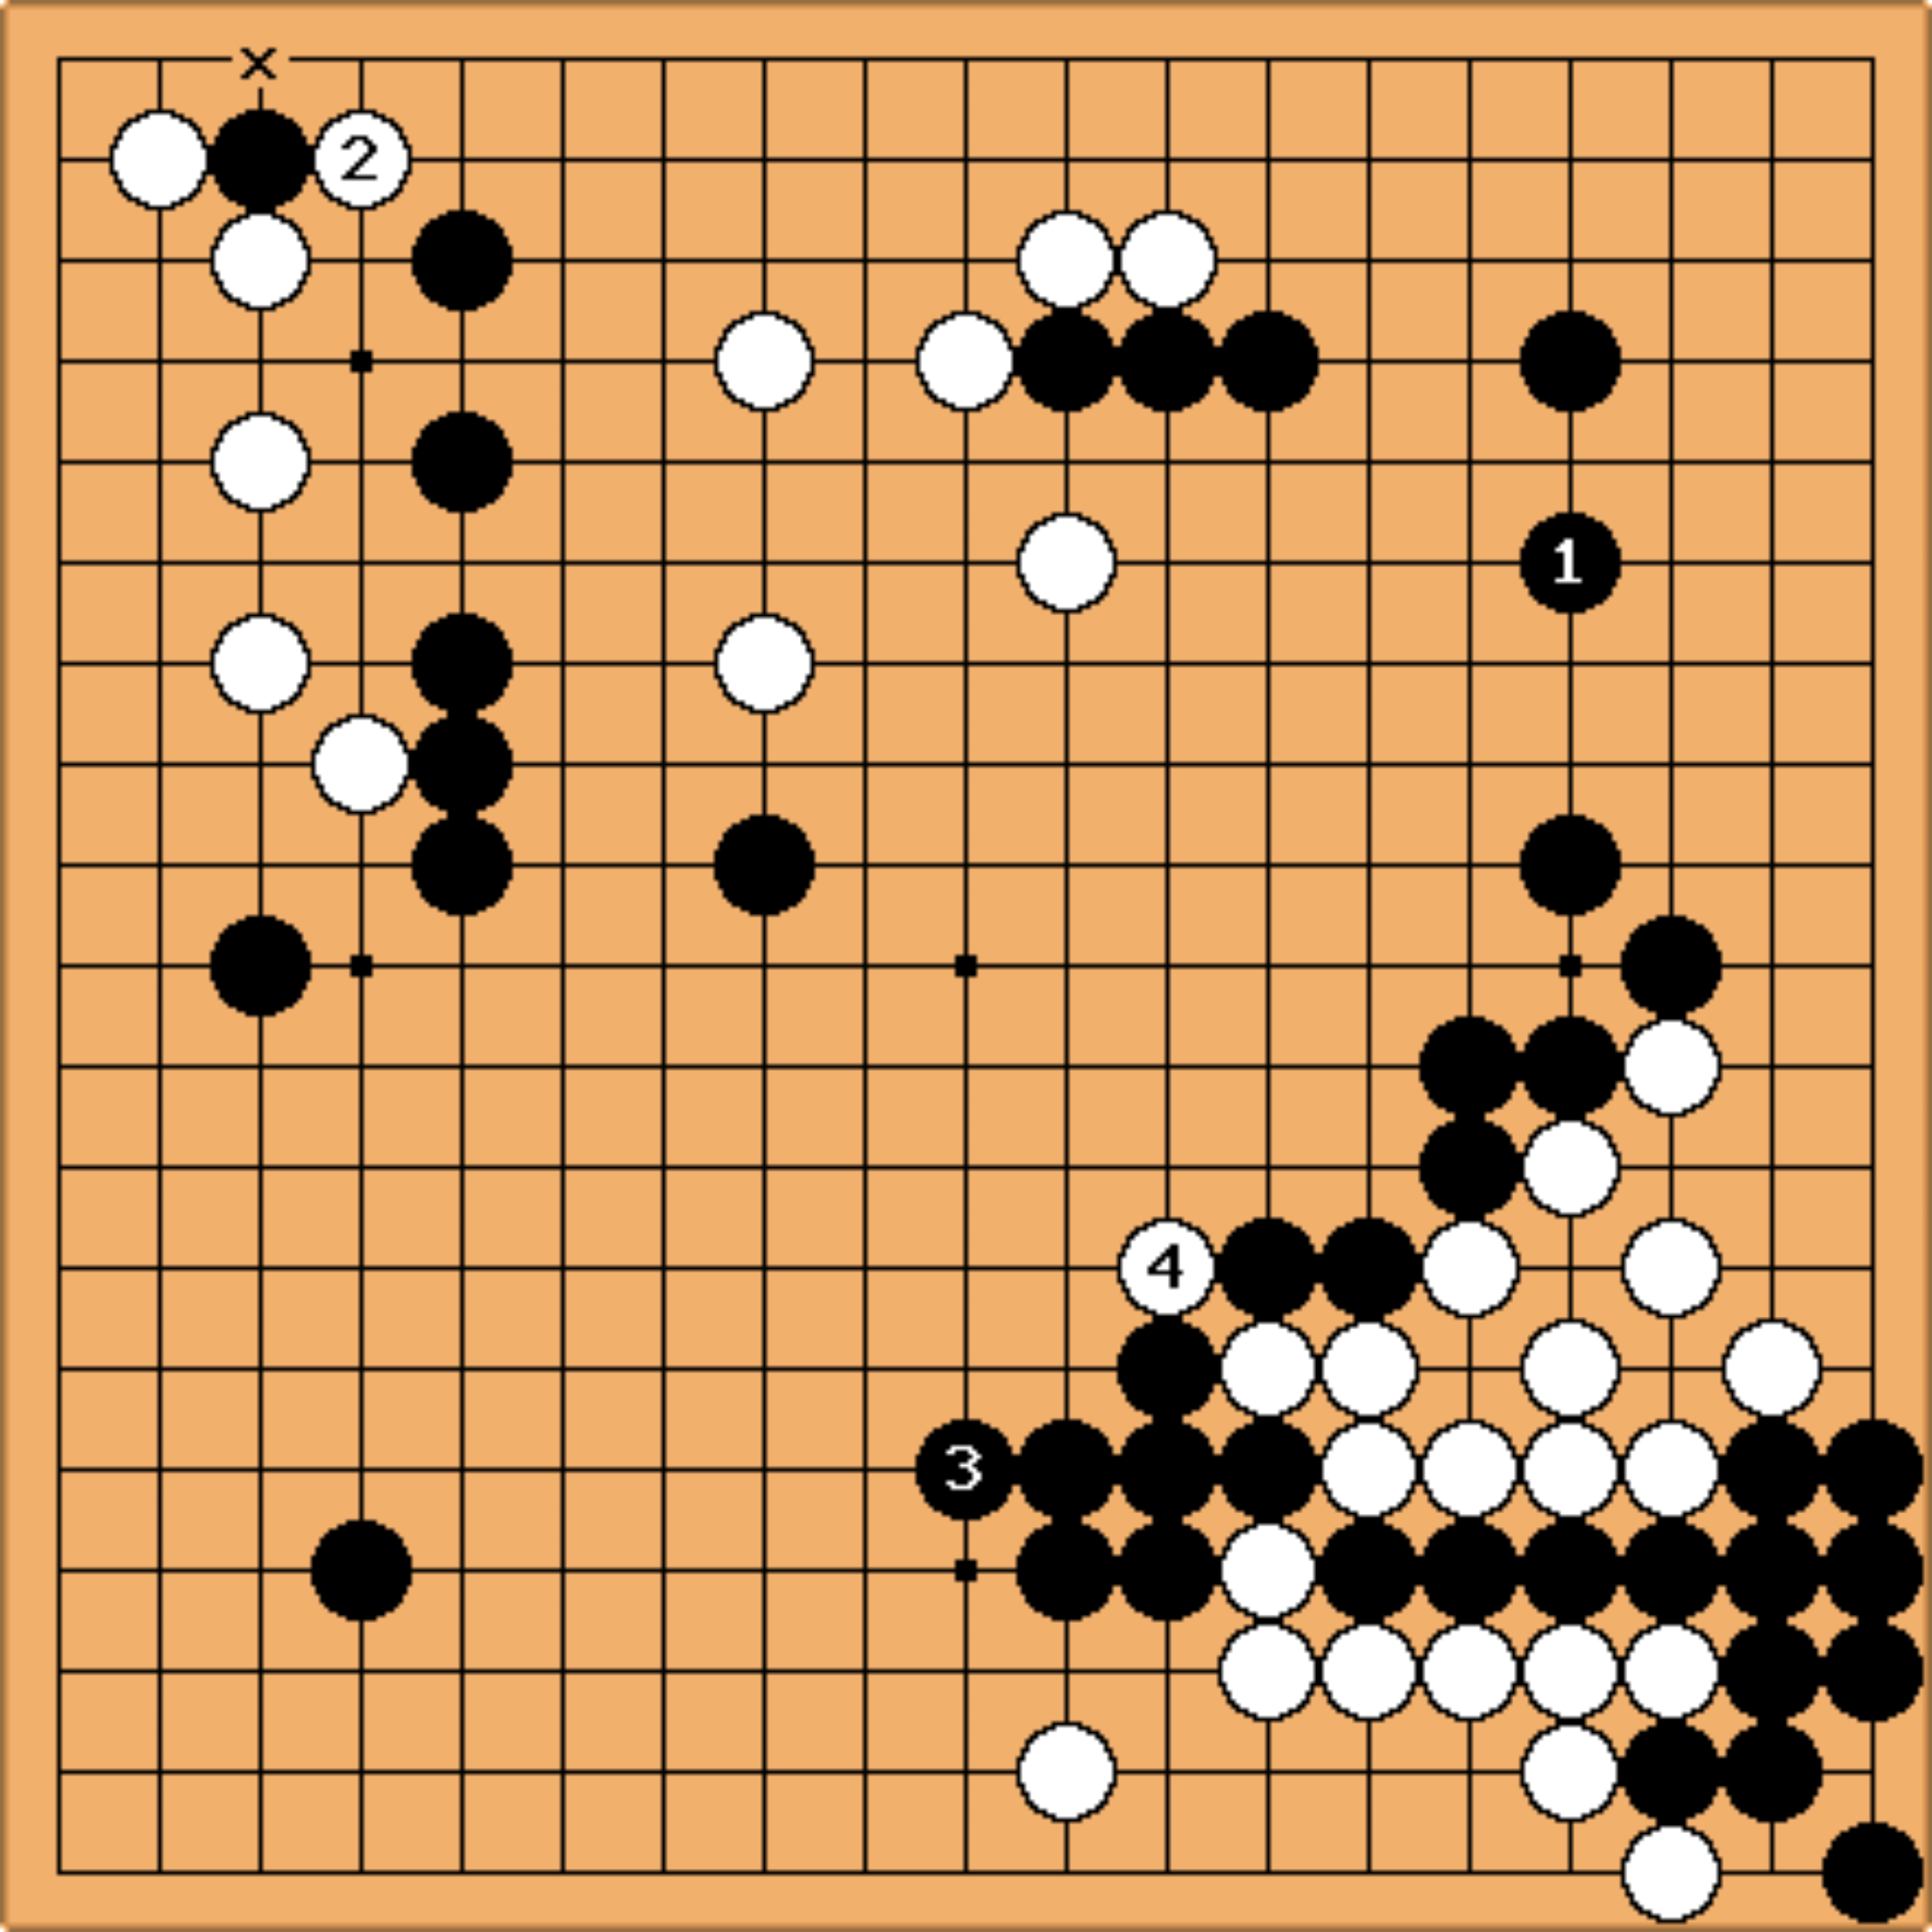black: (1120, 1320, 1210, 1412), (212, 111, 303, 203), (1545, 506, 1635, 598), (1320, 1221, 1412, 1311), (1320, 1523, 1412, 1614), (313, 1523, 403, 1614), (1019, 1523, 1109, 1614), (1019, 1422, 1109, 1513), (1120, 1422, 1210, 1513), (1120, 1523, 1210, 1614), (1221, 313, 1311, 403), (1725, 1725, 1815, 1815), (1019, 313, 1109, 403), (212, 918, 303, 1008), (1725, 1523, 1815, 1614), (1725, 1624, 1815, 1714), (1824, 1824, 1914, 1914), (1725, 1422, 1815, 1513), (1824, 1624, 1914, 1714), (1824, 1523, 1914, 1614), (1824, 1422, 1914, 1513), (1523, 1019, 1614, 1109), (1624, 1523, 1714, 1614), (414, 817, 504, 908), (414, 717, 504, 807), (1523, 1523, 1614, 1614), (414, 414, 504, 504), (414, 616, 504, 706), (1624, 1725, 1714, 1815), (414, 212, 504, 303), (1624, 918, 1714, 1008), (1523, 313, 1614, 403), (1523, 817, 1614, 908), (1120, 313, 1210, 403), (1422, 1523, 1513, 1614), (717, 817, 807, 908), (1422, 1120, 1513, 1210), (1422, 1019, 1513, 1109), (1221, 1221, 1311, 1311), (1221, 1422, 1311, 1513)
white: (111, 111, 203, 203), (1320, 1320, 1412, 1412), (1320, 1417, 1412, 1509), (1725, 1320, 1815, 1412), (1523, 1320, 1614, 1412), (1523, 1417, 1614, 1509), (1320, 1624, 1412, 1714), (1221, 1320, 1311, 1412), (313, 111, 403, 203), (1019, 1725, 1109, 1815), (1123, 1212, 1214, 1302), (1019, 212, 1109, 303), (1019, 515, 1109, 605), (1624, 1624, 1714, 1714), (1624, 1422, 1714, 1513), (1523, 1120, 1614, 1210), (1624, 1221, 1714, 1311), (1523, 1624, 1614, 1714), (212, 212, 303, 303), (1624, 1019, 1714, 1109), (212, 616, 303, 706), (212, 414, 303, 504), (1221, 1624, 1311, 1714), (1523, 1725, 1614, 1815), (1120, 212, 1210, 303), (1422, 1624, 1513, 1714), (1422, 1422, 1513, 1513), (1422, 1221, 1513, 1311), (918, 313, 1008, 403), (1624, 1824, 1714, 1914), (717, 616, 807, 706), (717, 313, 807, 403), (313, 717, 403, 807), (1221, 1523, 1311, 1614)
